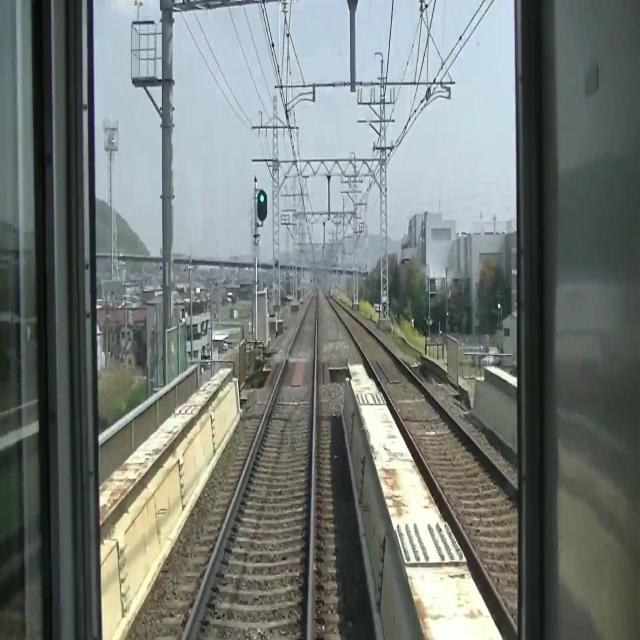rail-track: (324, 291, 516, 622), (192, 290, 317, 639)
